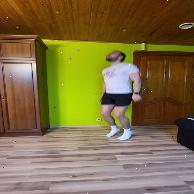high_jumps: (94, 48, 149, 145)
